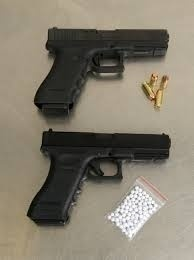pistol: (25, 127, 179, 230), (24, 24, 177, 116)
